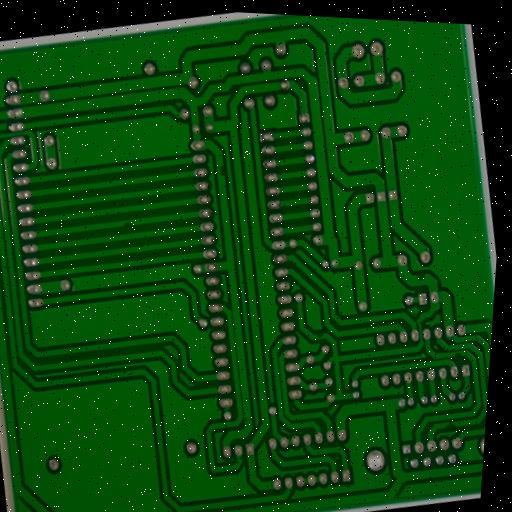mouse_bite: (214, 160, 229, 181), (440, 416, 459, 432), (312, 328, 328, 344), (118, 215, 136, 229), (450, 347, 464, 361)
